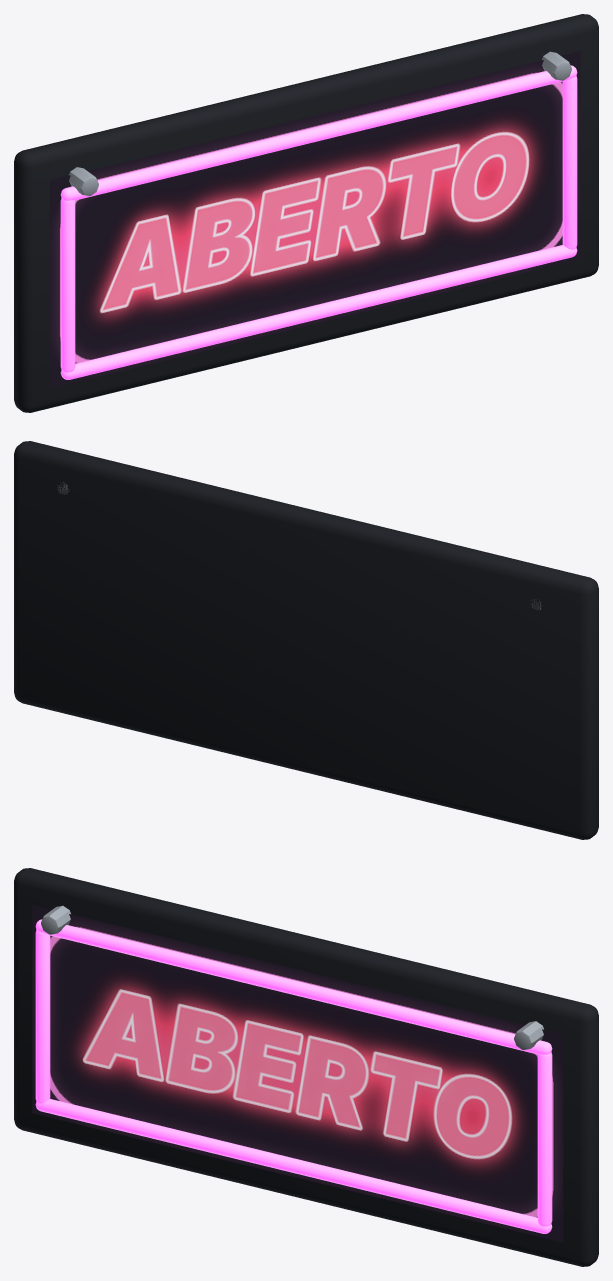
File: placa_aberto_neon.glb
The picture shows the model from 3 angles, top to bottom: view 1: azimuth 30°, elevation 25°; view 2: azimuth 150°, elevation 25°; view 3: azimuth 330°, elevation 25°; orthographic projection.
Visible parts, largest first — view 1: neon_pisca, placa_aberto_neon; view 2: placa_aberto_neon; view 3: neon_pisca, placa_aberto_neon.
Part boxes in pixels (left/top/right/bottom): neon_pisca: left=49, top=51, right=580, bottom=388; placa_aberto_neon: left=14, top=14, right=598, bottom=412; placa_aberto_neon: left=14, top=441, right=598, bottom=839; neon_pisca: left=32, top=905, right=563, bottom=1242; placa_aberto_neon: left=14, top=868, right=598, bottom=1266.
Bounding box in the file's own units: 1.2 × 0.5125 × 0.1.
3 materials, 2 textured.
